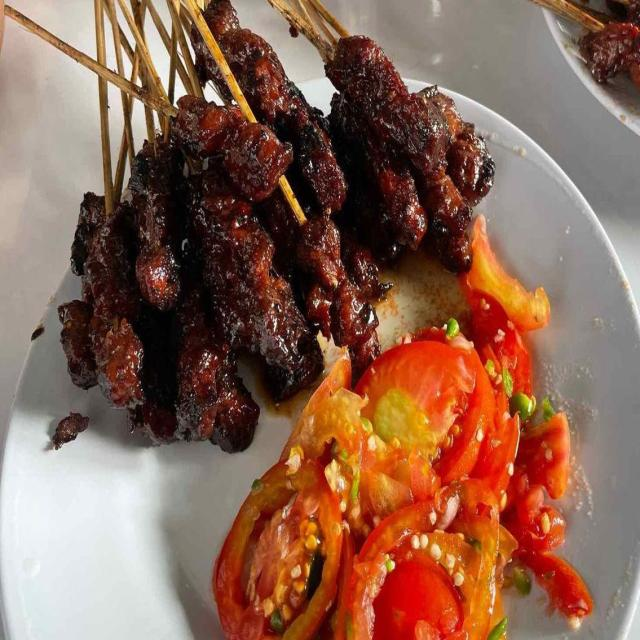Sate: (0, 0, 522, 423)
